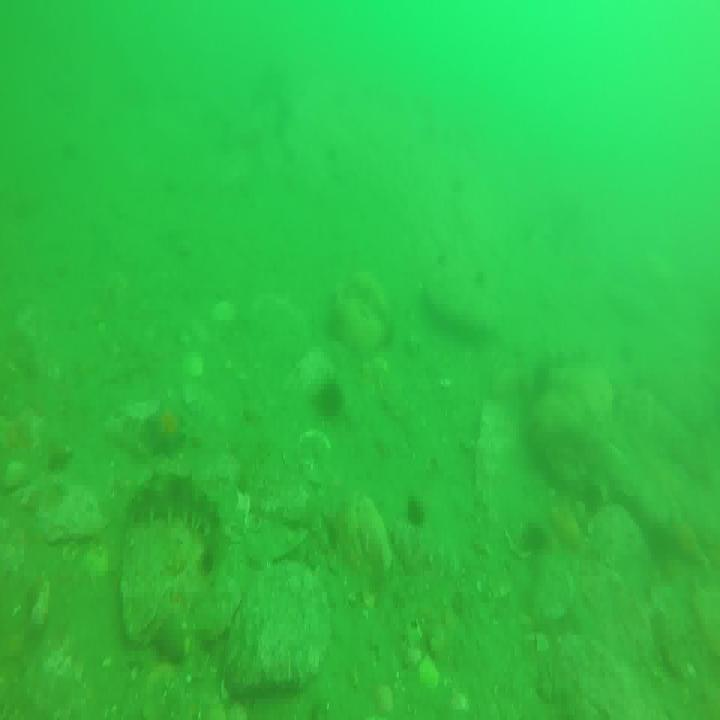echinus: (319, 374, 344, 413), (525, 520, 552, 556), (406, 492, 426, 525)
holothurian: (126, 474, 218, 531)
starfish: (146, 402, 187, 458)
